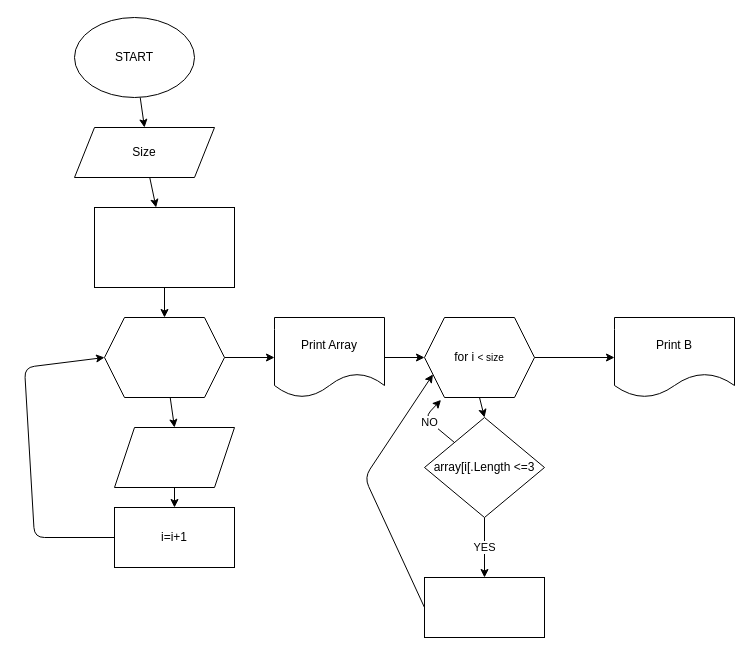
Some shapes in this 752 by 655 pixel diagram are drawn without their labels. Here are the shapes that lost their labels. From the top down, the centre of each, then its label:
(x=164, y=247): str [] array = array[size] str [] b= b[size] i=0 j=0
(x=164, y=357): for i< size
(x=174, y=457): array[i] = "word"
(x=484, y=607): b[j]= a[i] j=j+1
